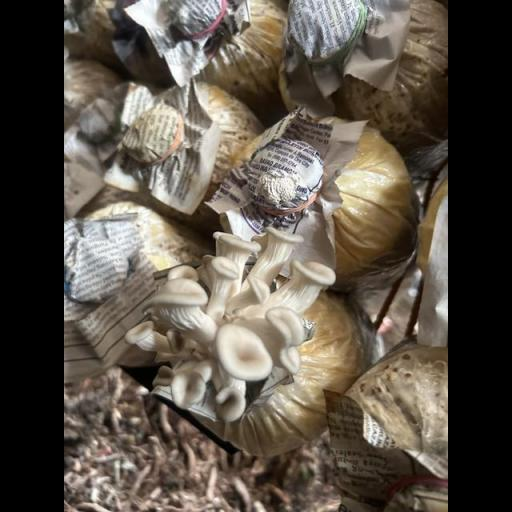White Oyster Mushroom: (112, 216, 346, 442)
